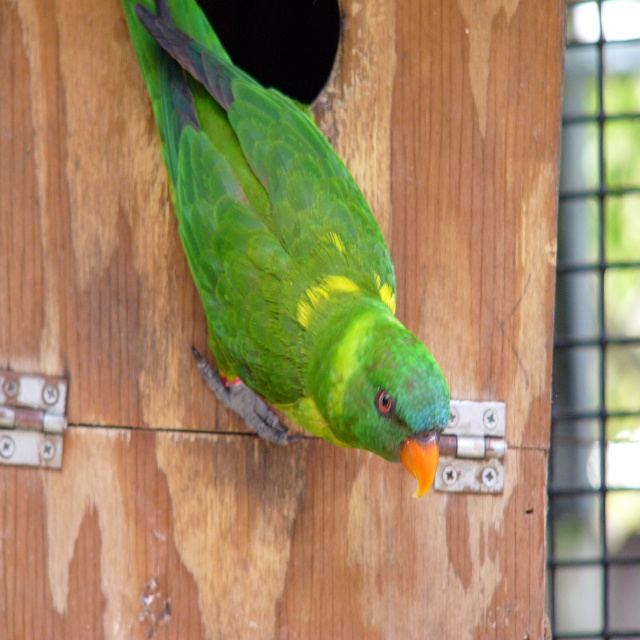Parrot: (121, 0, 451, 500)
